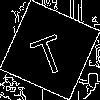T: (25, 25, 70, 78)
